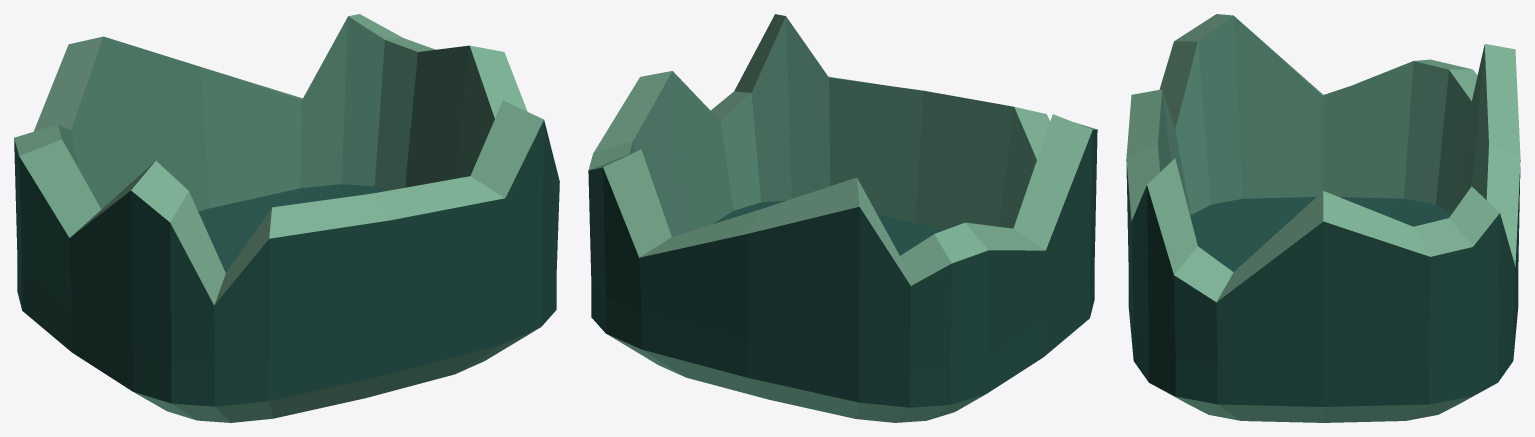
The model's file is gin_bottle_piece_heel.glb.
3 renders of one model, left to right at view 1: azimuth 30°, elevation 25°; view 2: azimuth 150°, elevation 25°; view 3: azimuth 270°, elevation 25°, orthographic. The views are drawn at different scales.
Visible parts, largest first — view 1: Jagged heavy heel and bottom.003; view 2: Jagged heavy heel and bottom.003; view 3: Jagged heavy heel and bottom.003.
Part boxes in pixels (x1=…): Jagged heavy heel and bottom.003: x1=14, y1=14, x2=559, y2=422; Jagged heavy heel and bottom.003: x1=588, y1=14, x2=1097, y2=422; Jagged heavy heel and bottom.003: x1=1126, y1=14, x2=1520, y2=422.
Size of the model in its own units: 0.091 by 0.0532 by 0.0746.
